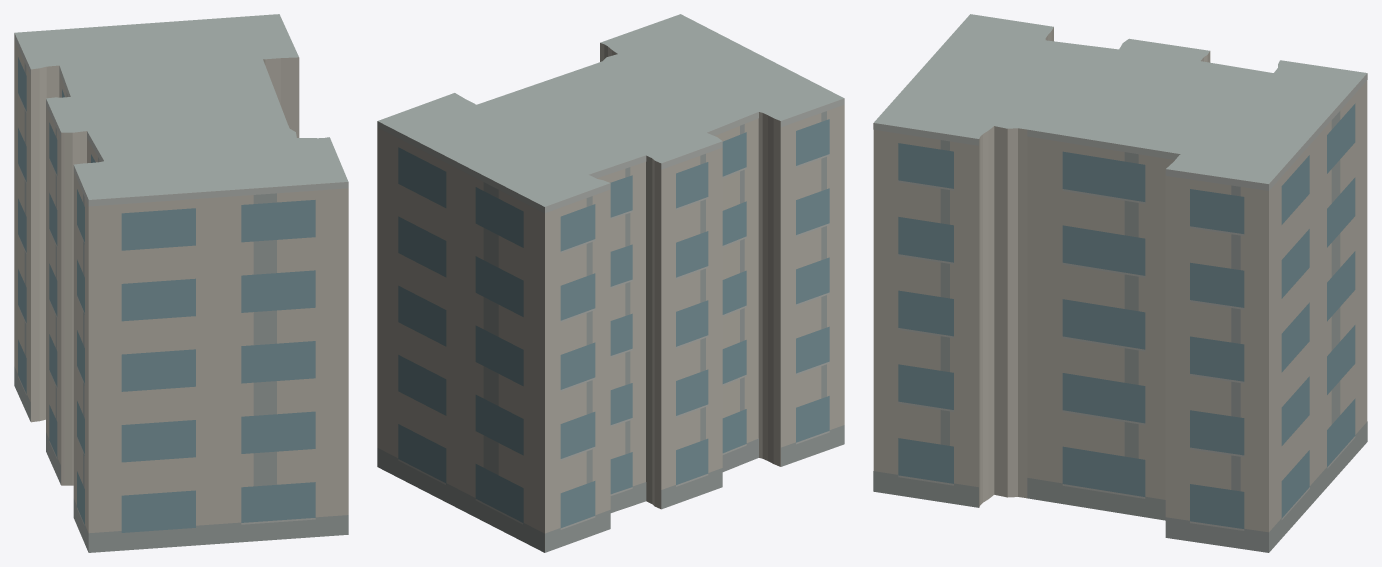
The model's file is survey-upis-32892704.glb.
3 views of the same model, side by side, from view 1: azimuth 30°, elevation 25°; view 2: azimuth 150°, elevation 25°; view 3: azimuth 270°, elevation 25° (orthographic). The views are drawn at different scales.
Parts seen in each view (by area): view 1: survey-upis-32892704.tmp; view 2: survey-upis-32892704.tmp; view 3: survey-upis-32892704.tmp.
Boxes of the visible parts, x1,y1,x2,y2 form: survey-upis-32892704.tmp: [14, 14, 348, 552]; survey-upis-32892704.tmp: [377, 14, 844, 552]; survey-upis-32892704.tmp: [873, 14, 1367, 552].
Bounding box in the file's own units: 13.07 × 13.2 × 16.04.
